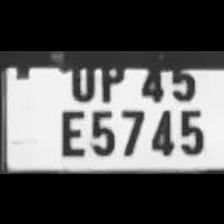4: (130, 52, 166, 98), (146, 101, 174, 156)
5: (175, 103, 207, 155), (85, 104, 115, 156), (166, 55, 198, 98)
7: (116, 102, 146, 159)
E: (54, 104, 86, 158)
P: (94, 54, 126, 100)
U: (64, 53, 96, 99)
